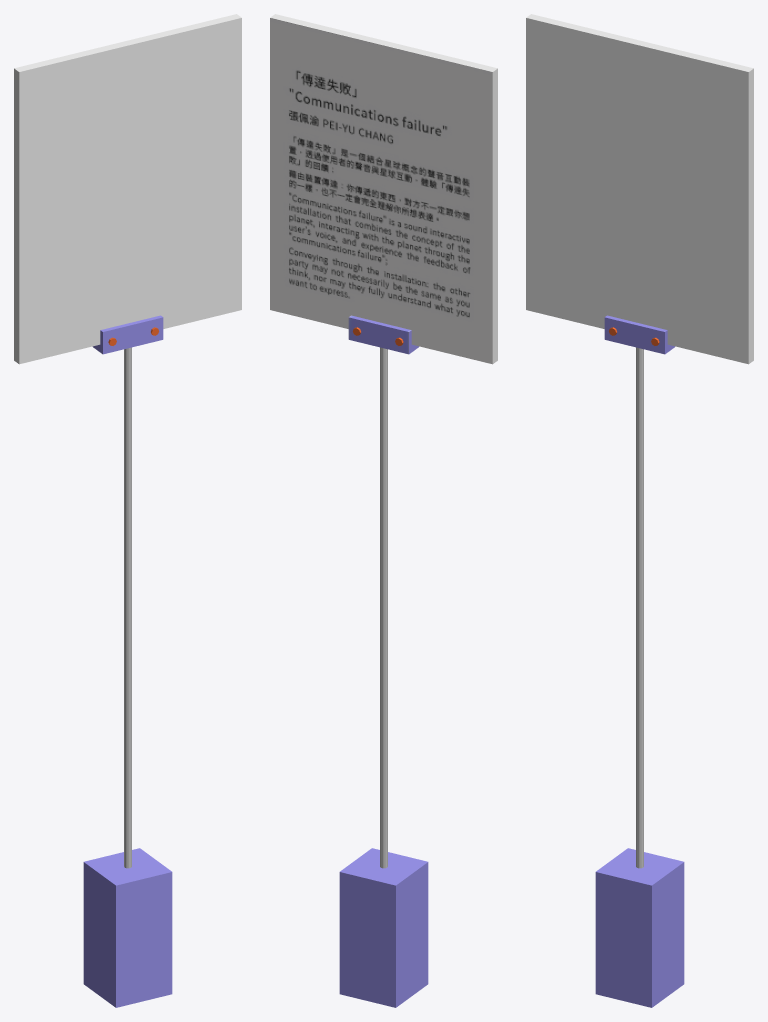
The model's file is work_sign07.fbx.
3 views of the same model, side by side, from view 1: azimuth 30°, elevation 25°; view 2: azimuth 150°, elevation 25°; view 3: azimuth 330°, elevation 25° (orthographic).
Parts seen in each view (by area): view 1: work_detail_07, work_sign; view 2: work_detail_07, work_sign; view 3: work_detail_07, work_sign.
Part boxes in pixels (<box>): work_detail_07: <box>14,14,241,364</box>; work_sign: <box>83,315,172,1007</box>; work_detail_07: <box>270,14,497,364</box>; work_sign: <box>339,315,428,1007</box>; work_detail_07: <box>526,14,753,364</box>; work_sign: <box>595,315,684,1007</box>.
Size of the model in its own units: 42.19 by 171 by 10.67.
Materials: 1 (1 with a texture image).
